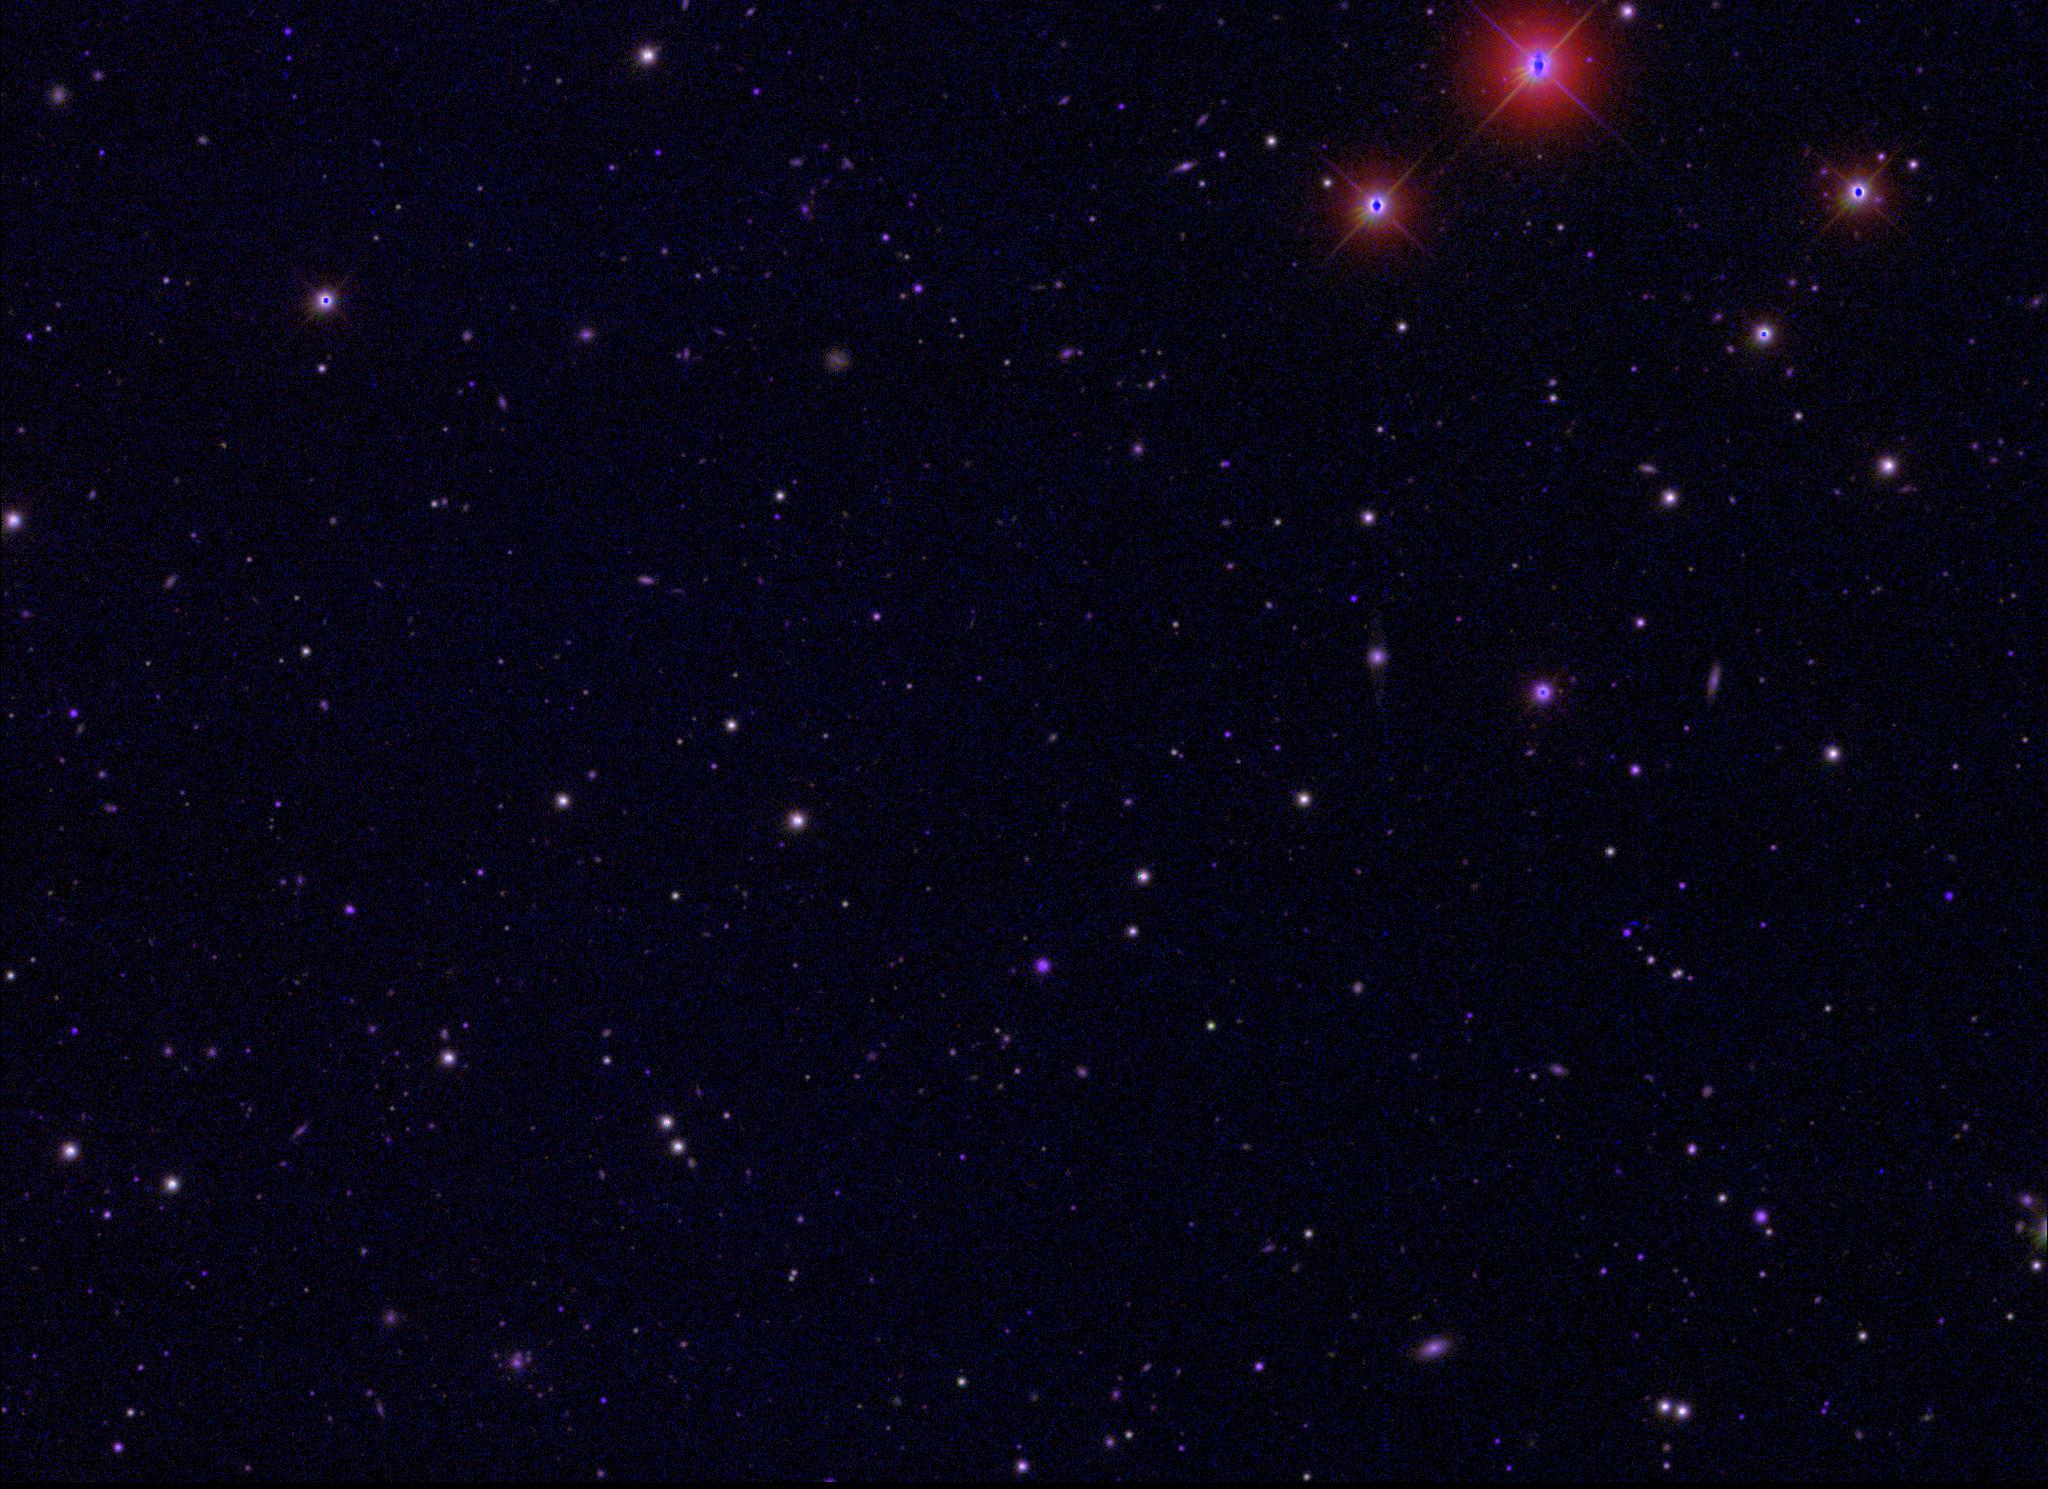L: (1875, 1164, 1889, 1179)
